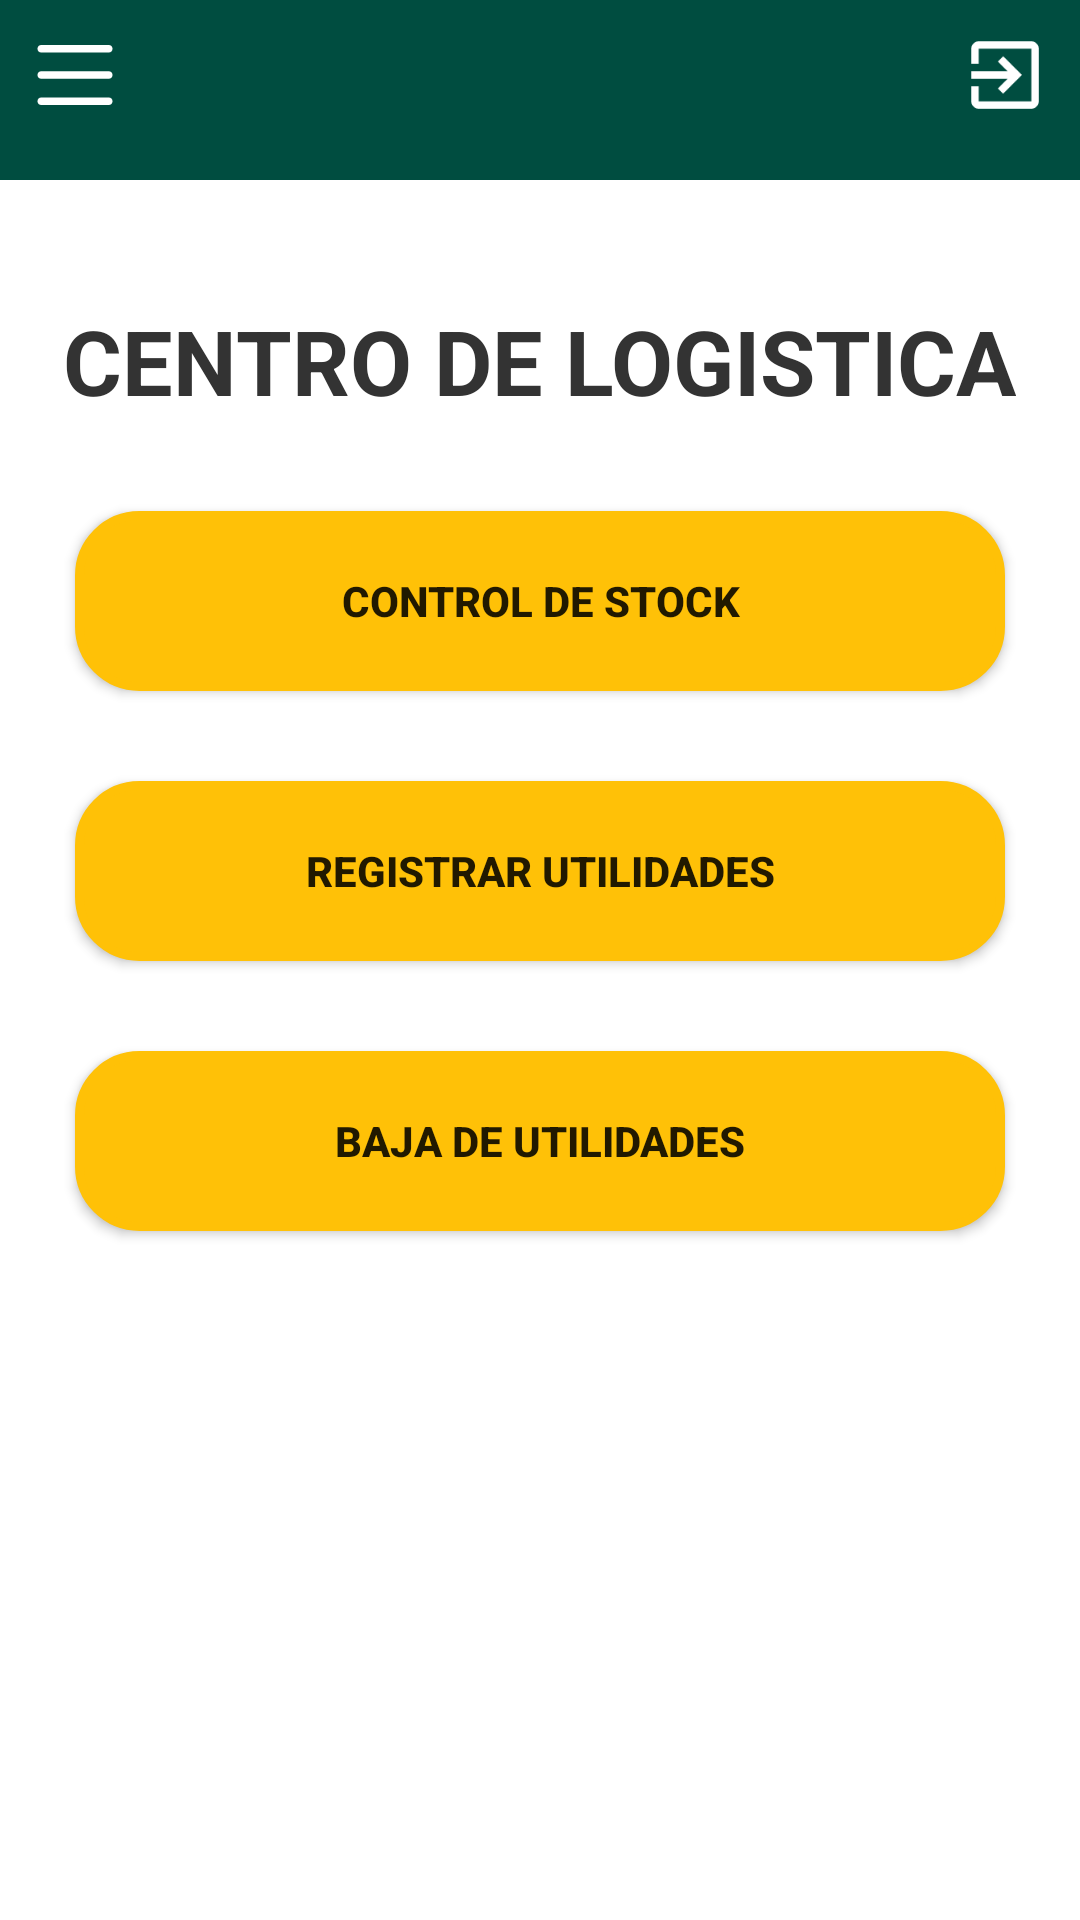

Where icons sit on this 1080×1920 app screen, as Rect(x1, y1, x2, y2):
Menu: Rect(37, 45, 113, 105)
Salir: Rect(971, 41, 1039, 109)
